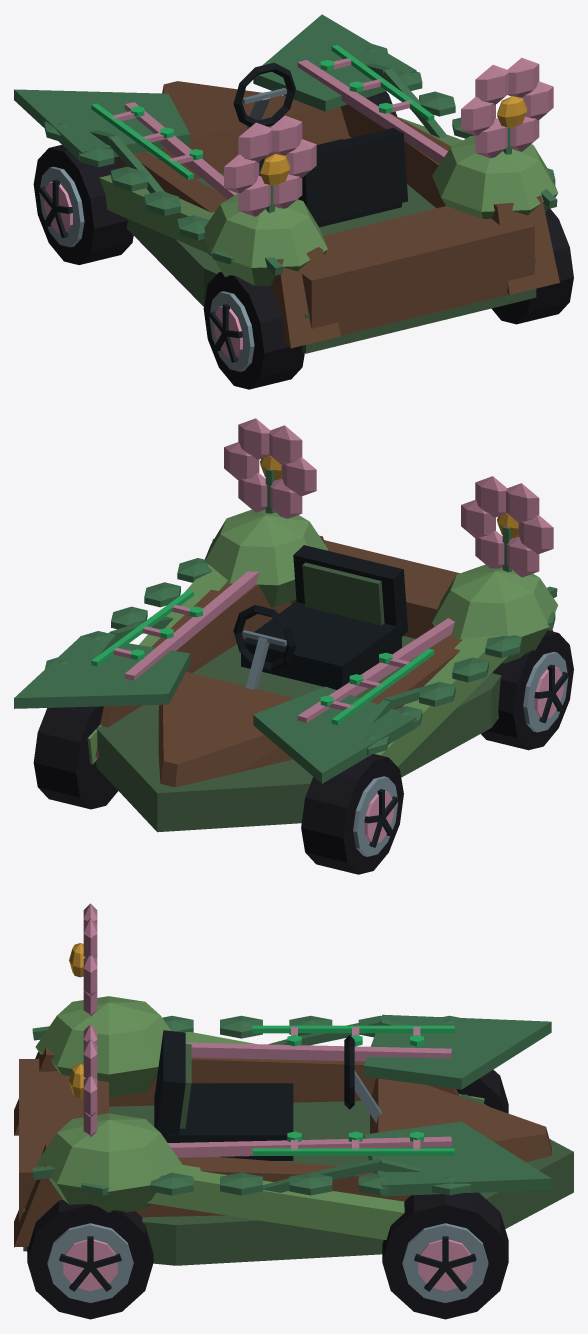
File: kart.glb
3 renders of one model, top to bottom at view 1: azimuth 30°, elevation 25°; view 2: azimuth 150°, elevation 25°; view 3: azimuth 270°, elevation 25°, orthographic. The views are drawn at different scales.
Visible parts, largest first — view 1: identity-nature-nature-root-cradle-and-leaf-bow, identity-nature-motif-flowers, identity-nature-driver-cockpit, wheel-rear-left, wheel-front-left, identity-nature-motif-vines, identity-nature-motif-circuit, wheel-rear-right; view 2: identity-nature-nature-root-cradle-and-leaf-bow, identity-nature-driver-cockpit, identity-nature-motif-flowers, wheel-front-left, wheel-rear-left, identity-nature-motif-vines, wheel-front-right, identity-nature-motif-circuit; view 3: identity-nature-nature-root-cradle-and-leaf-bow, wheel-front-right, wheel-rear-right, identity-nature-driver-cockpit, identity-nature-motif-vines, identity-nature-motif-circuit, identity-nature-motif-flowers, wheel-front-left.
Part boxes in pixels (left/top/right/bottom): identity-nature-nature-root-cradle-and-leaf-bow: left=14, top=14, right=559, bottom=353; identity-nature-motif-flowers: left=224, top=57, right=553, bottom=216; identity-nature-driver-cockpit: left=233, top=62, right=407, bottom=227; wheel-rear-left: left=203, top=272, right=304, bottom=389; wheel-front-left: left=33, top=145, right=133, bottom=264; identity-nature-motif-vines: left=44, top=44, right=557, bottom=275; identity-nature-motif-circuit: left=91, top=45, right=434, bottom=179; wheel-rear-right: left=491, top=208, right=573, bottom=324; identity-nature-nature-root-cradle-and-leaf-bow: left=14, top=509, right=557, bottom=832; identity-nature-driver-cockpit: left=233, top=545, right=407, bottom=689; identity-nature-motif-flowers: left=224, top=418, right=553, bottom=577; wheel-front-left: left=301, top=754, right=403, bottom=874; wheel-rear-left: left=481, top=630, right=573, bottom=750; identity-nature-motif-vines: left=44, top=539, right=557, bottom=755; wheel-front-right: left=33, top=706, right=117, bottom=809; identity-nature-motif-circuit: left=91, top=590, right=434, bottom=724; identity-nature-nature-root-cradle-and-leaf-bow: left=14, top=996, right=573, bottom=1265; wheel-front-right: left=382, top=1192, right=508, bottom=1319; wheel-rear-right: left=27, top=1199, right=153, bottom=1319; identity-nature-driver-cockpit: left=154, top=1030, right=381, bottom=1160; identity-nature-motif-vines: left=32, top=1015, right=470, bottom=1195; identity-nature-motif-circuit: left=252, top=1025, right=454, bottom=1155; identity-nature-motif-flowers: left=69, top=903, right=97, bottom=1137; wheel-front-left: left=456, top=1069, right=508, bottom=1113.
Bounding box in the file's own units: 2.01 × 1.46 × 2.75.
